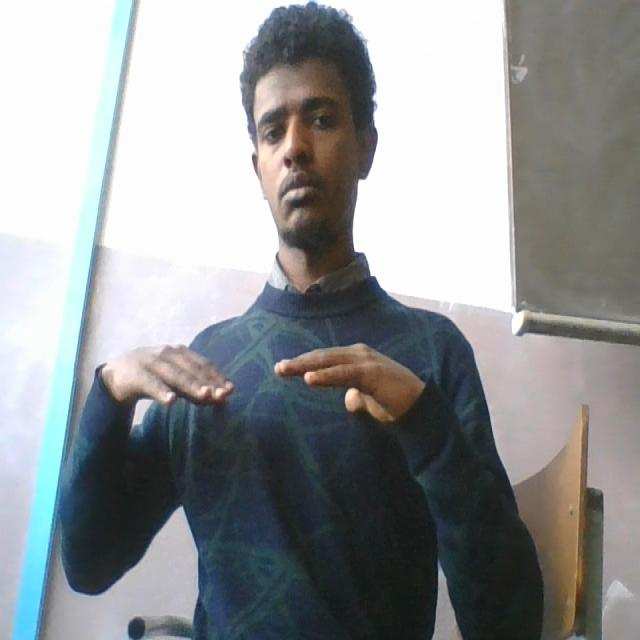meznanat: (97, 324, 419, 444)
